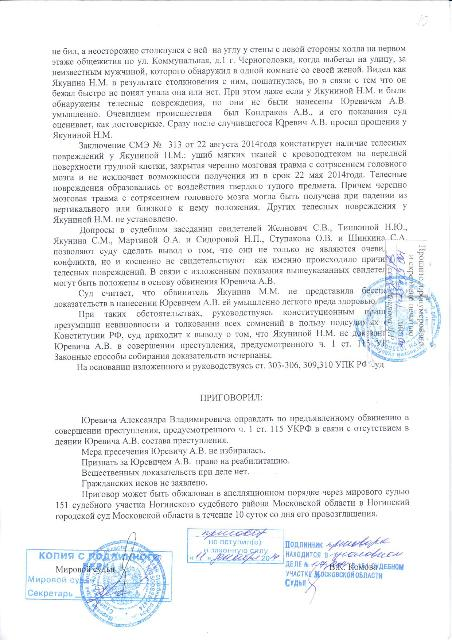stamp: (80, 541, 164, 627), (356, 278, 442, 359)
